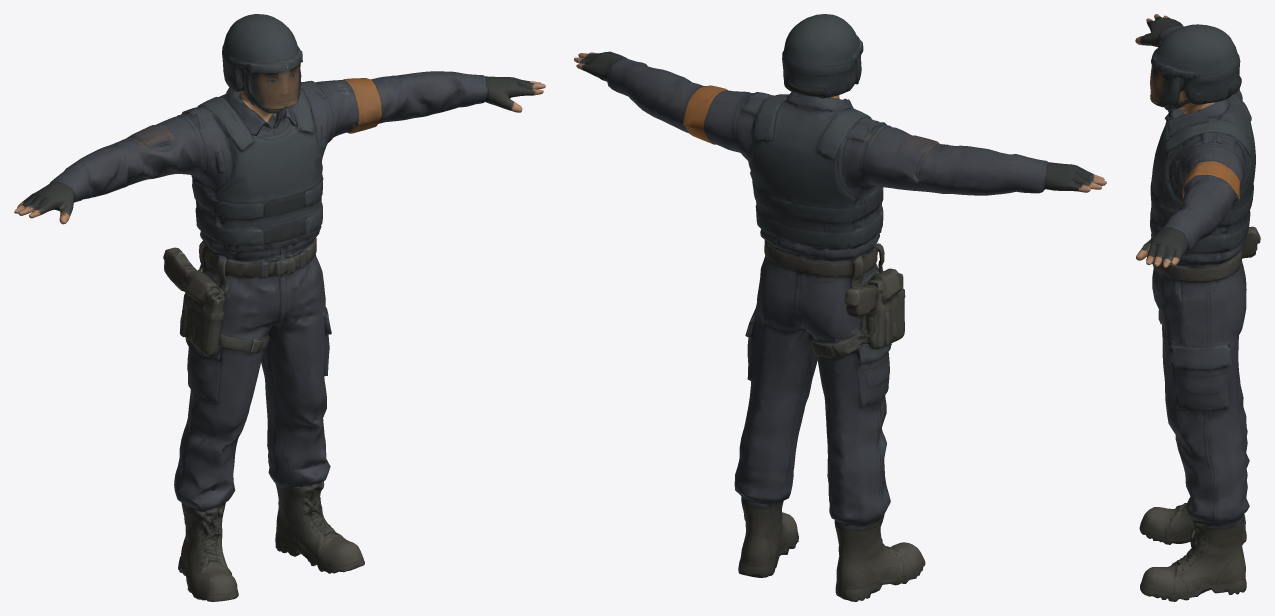
The model's file is Guard_raw.glb.
3 renders of one model, left to right at view 1: azimuth 30°, elevation 25°; view 2: azimuth 150°, elevation 25°; view 3: azimuth 270°, elevation 25°, orthographic. The views are drawn at different scales.
Visible parts, largest first — view 1: texture_mapping; view 2: texture_mapping; view 3: texture_mapping.
Boxes of the visible parts, x1=… form: texture_mapping: x1=14, y1=14, x2=545, y2=601; texture_mapping: x1=574, y1=14, x2=1106, y2=601; texture_mapping: x1=1135, y1=14, x2=1260, y2=601.
Size of the model in its own units: 0.9987 by 1 by 0.2116.
Materials: 1 (1 with a texture image).
